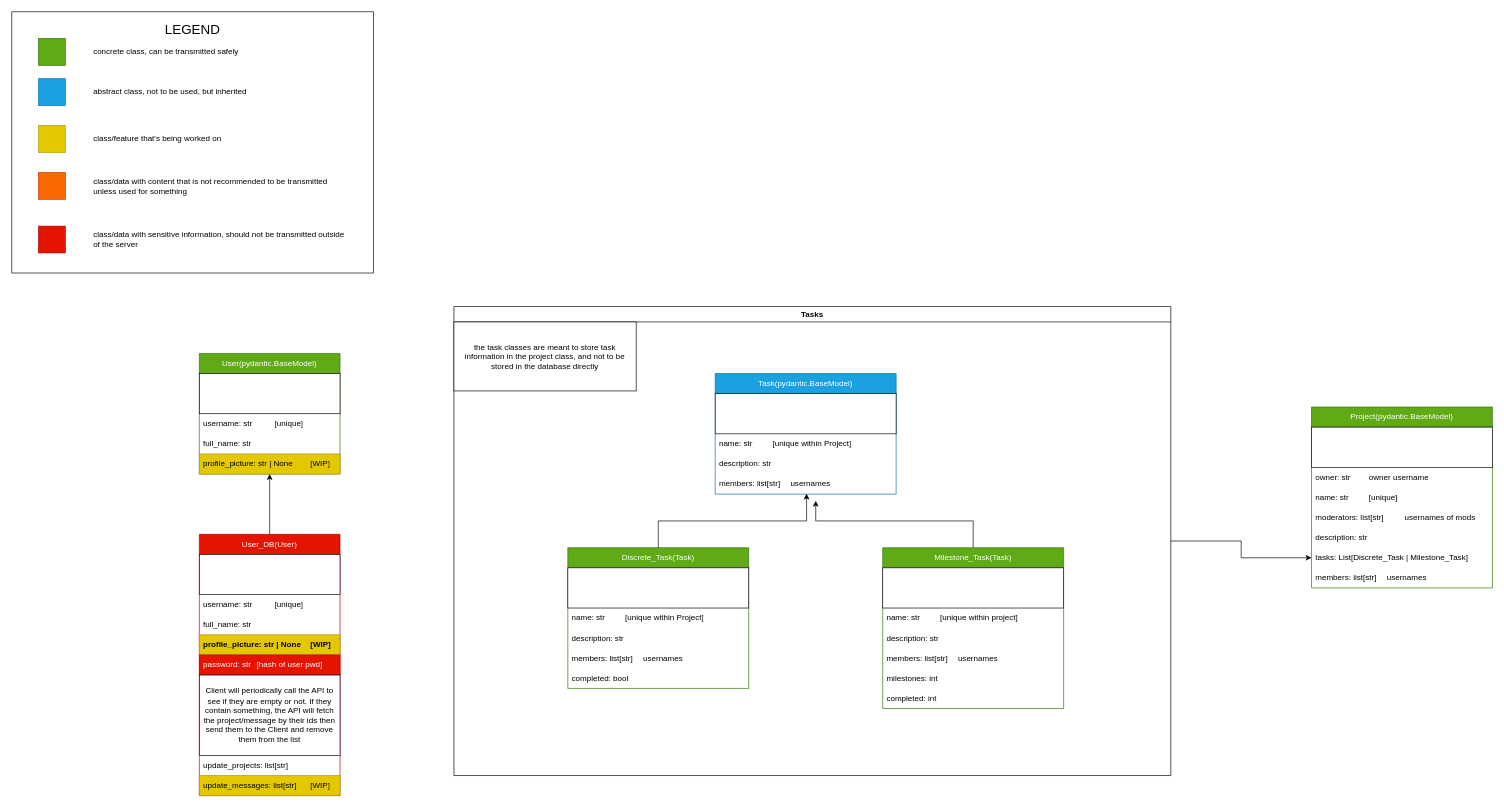
The diagram is 1504 pixels wide and 807 high, and some of its shapes have lost their labels. Here are the shapes that lost their labels. From the top down, the centre of each, then its label:
At point 269,393: "class returned by the API, contains user info".
At point 805,413: "abstract task class".
At point 1401,446: "class containing all project details".
At point 269,574: "class stored in the database only, handled only within the API".
At point 658,587: "task that is either finished or not, no in between".
At point 973,587: "a milestone based task, varying completion".
